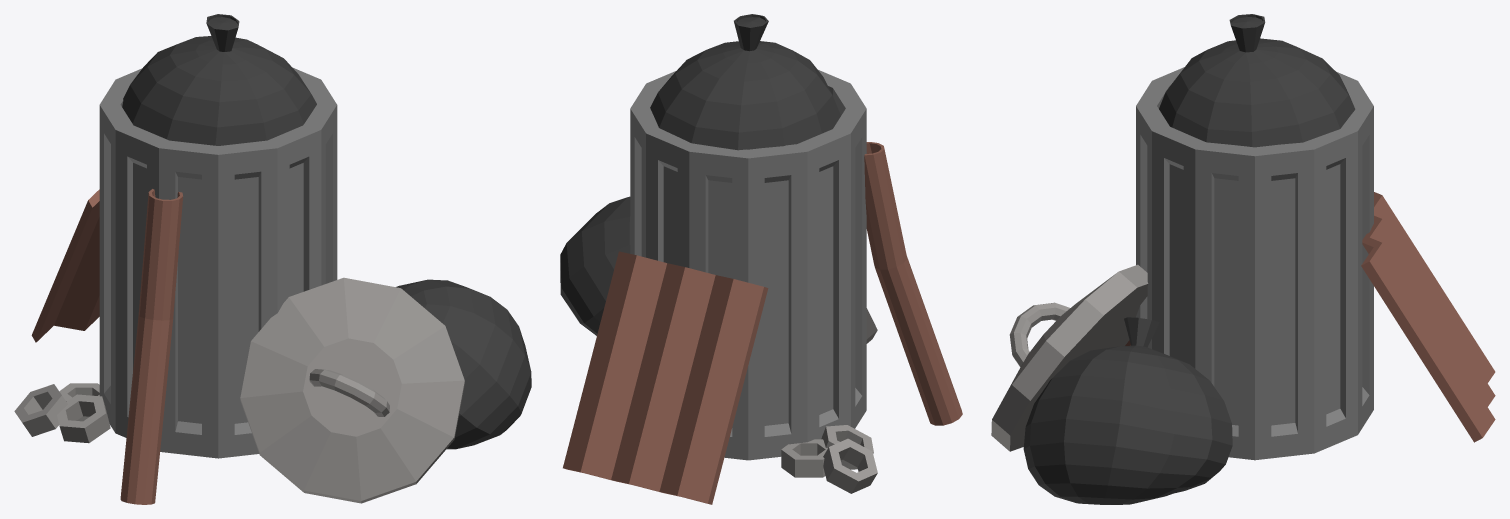
The model's file is Trash.fbx.
3 renders of one model, left to right at view 1: azimuth 30°, elevation 25°; view 2: azimuth 150°, elevation 25°; view 3: azimuth 270°, elevation 25°, orthographic.
Visible parts, largest first — view 1: Cylinder, Cylinder.002, Sphere.001, Sphere.002, Cylinder.001, Plane, Cylinder.005, Cylinder.004; view 2: Cylinder, Plane, Sphere.001, Cylinder.001, Sphere.002, Cylinder.004, Cylinder.003, Cylinder.005; view 3: Cylinder, Sphere.002, Sphere.001, Plane, Cylinder.002.
Part boxes in pixels (x1,y1,x2,y2): Cylinder: (99, 67, 337, 458); Cylinder.002: (240, 277, 464, 503); Sphere.001: (122, 14, 316, 145); Sphere.002: (396, 279, 531, 449); Cylinder.001: (120, 189, 183, 504); Plane: (31, 189, 99, 342); Cylinder.005: (57, 394, 110, 443); Cylinder.004: (14, 384, 67, 436); Cylinder: (630, 70, 866, 460); Plane: (563, 251, 768, 504); Sphere.001: (650, 14, 840, 150); Cylinder.001: (864, 142, 962, 425); Sphere.002: (560, 196, 630, 335); Cylinder.004: (823, 438, 877, 493); Cylinder.003: (781, 439, 827, 477); Cylinder.005: (821, 425, 873, 469); Cylinder: (1136, 67, 1373, 460); Sphere.002: (1023, 317, 1232, 504); Sphere.001: (1159, 14, 1355, 147); Plane: (1361, 192, 1495, 442); Cylinder.002: (991, 264, 1148, 451).
Size of the model in its own units: 409 by 401 by 447.
